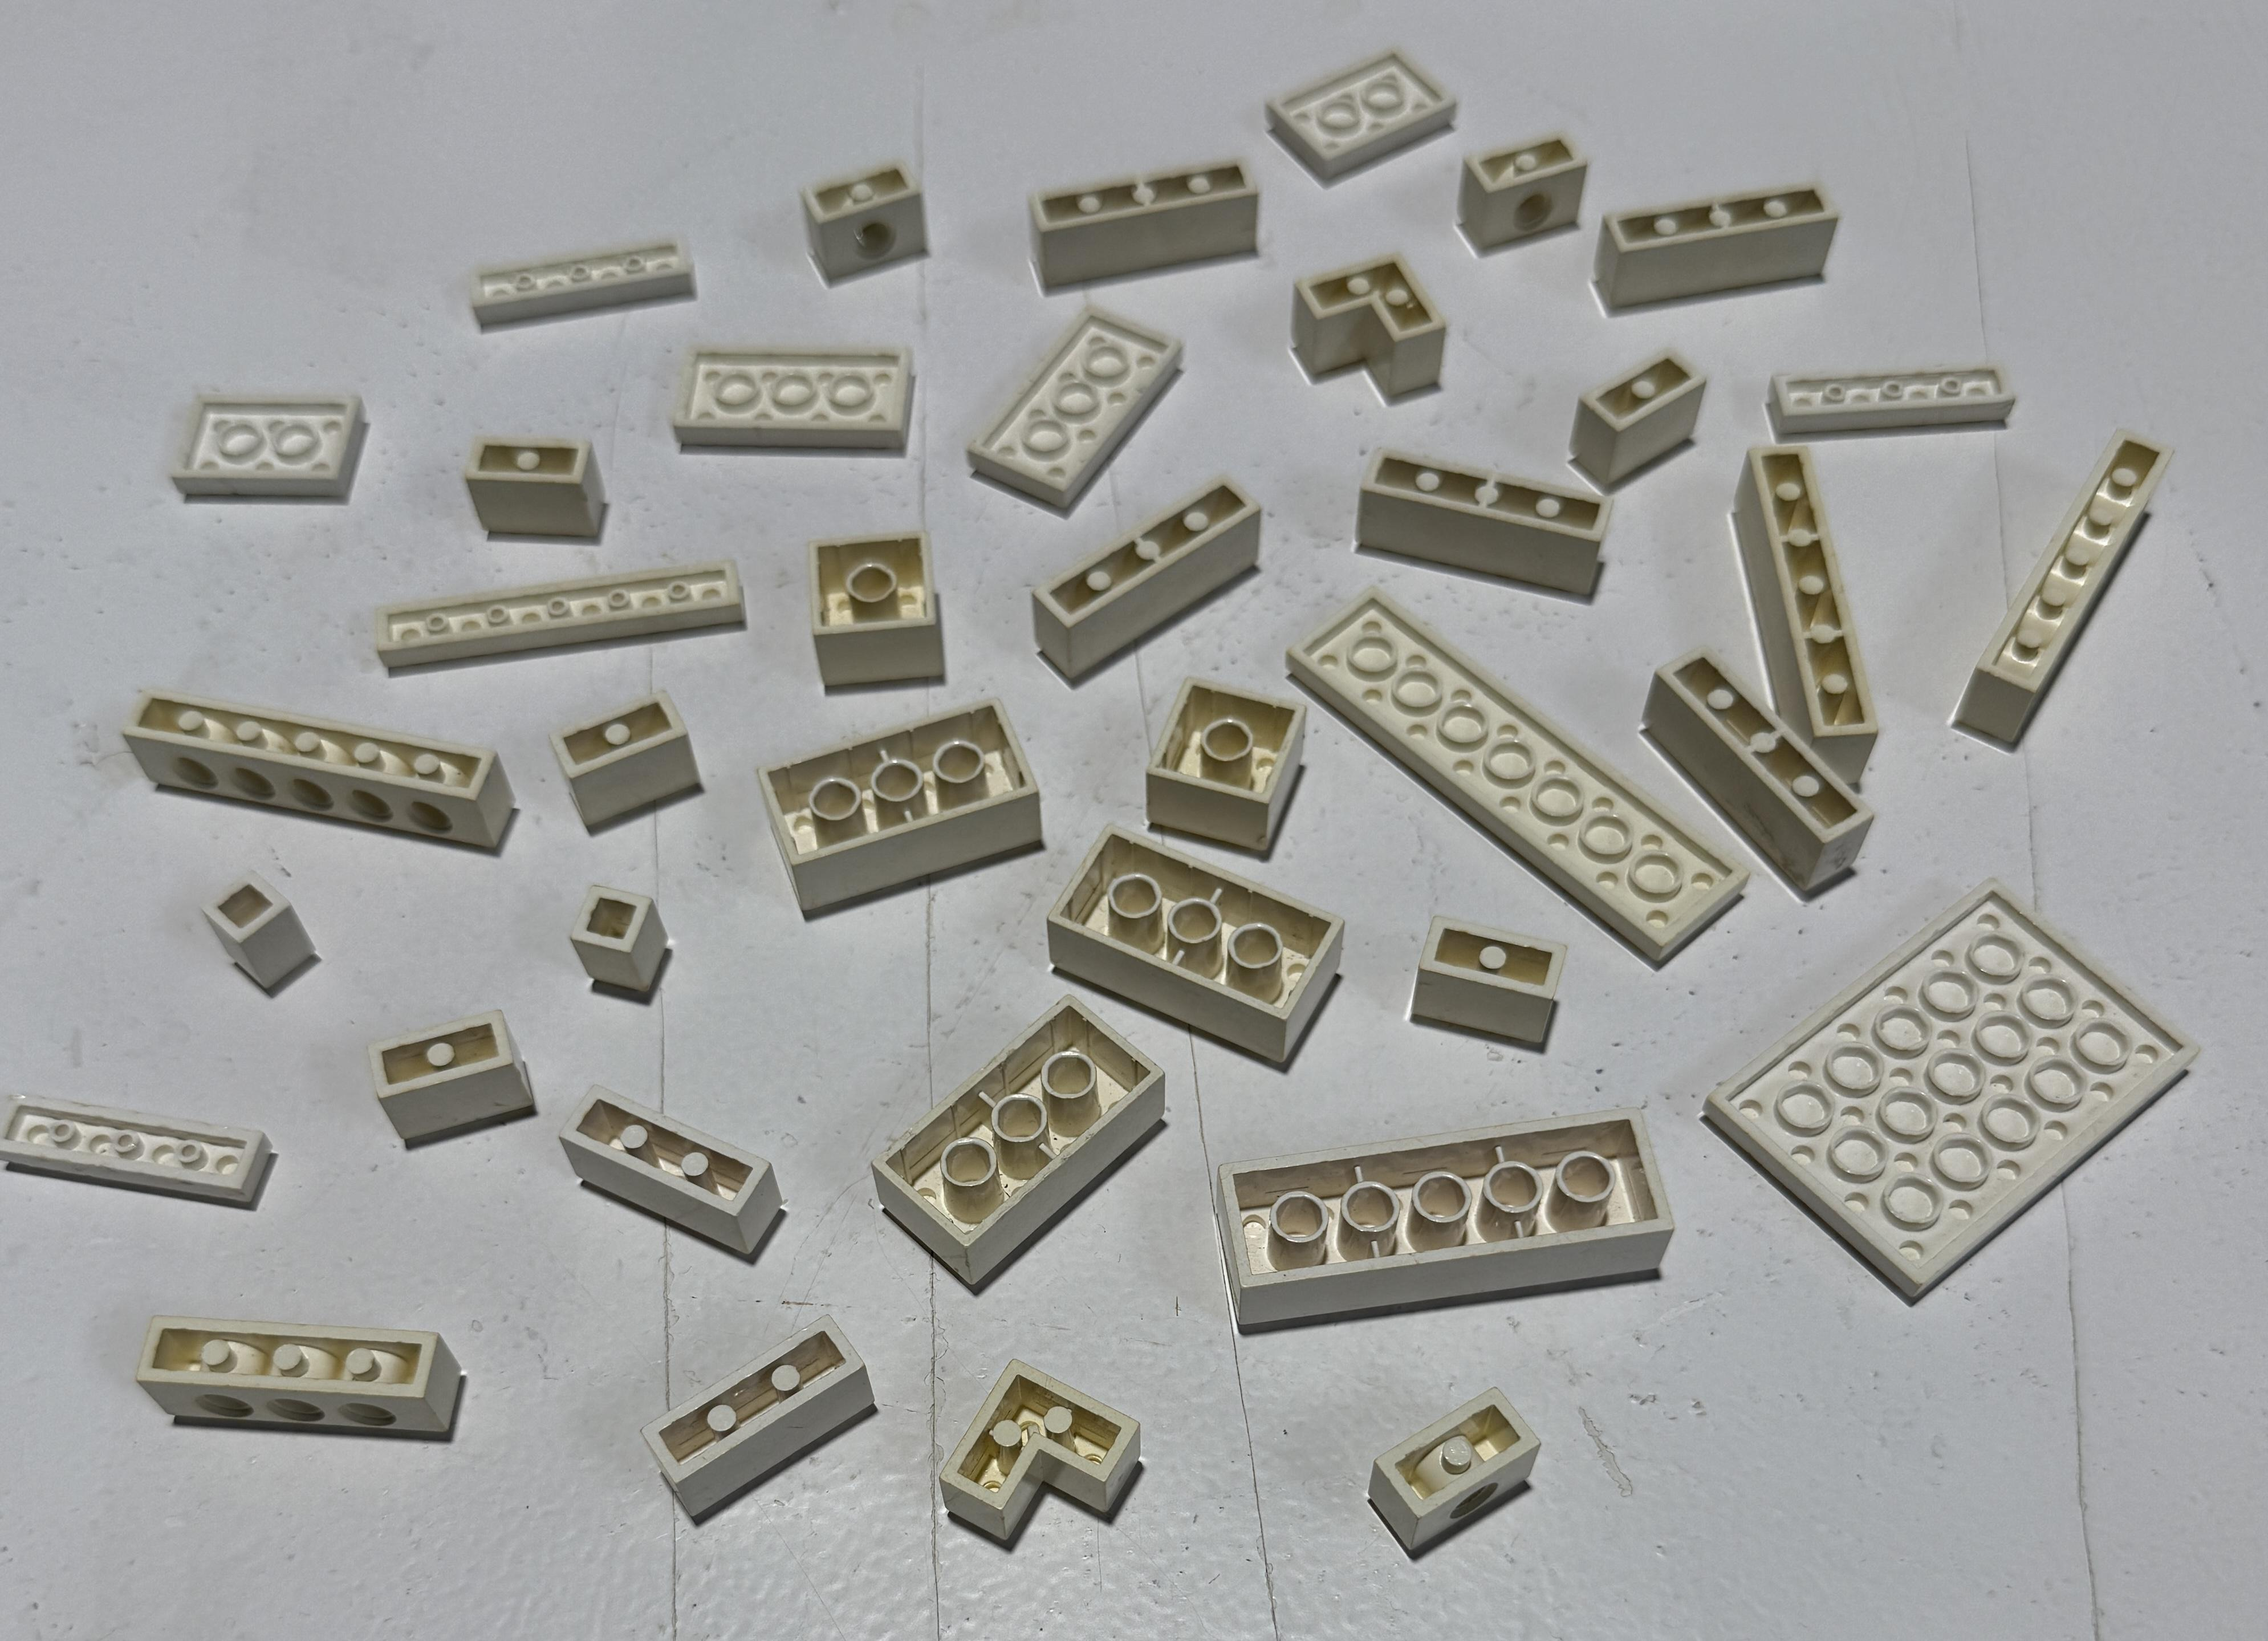brick_1x1: (539, 865, 690, 1030), (183, 868, 354, 988)
brick_1x2: (416, 386, 681, 607), (1340, 1356, 1571, 1602), (1530, 292, 1759, 518), (1405, 877, 1609, 1085), (534, 671, 745, 852), (349, 997, 565, 1171), (1440, 100, 1616, 278), (789, 146, 961, 306)
brick_1x3: (613, 1298, 902, 1542), (539, 1072, 803, 1269)
brick_1x4: (1631, 620, 1891, 931), (1009, 460, 1284, 717), (1345, 423, 1629, 632), (123, 1296, 486, 1456), (1009, 129, 1282, 313), (1581, 169, 1861, 322)
brick_2x2: (1109, 643, 1335, 863), (789, 505, 965, 690)
brick_2x4: (858, 990, 1183, 1306), (1028, 813, 1368, 1083), (750, 683, 1065, 951)
